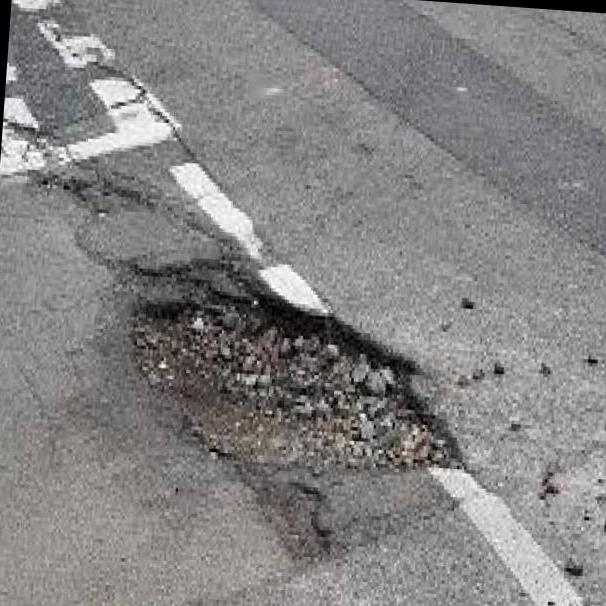pothole: (71, 262, 475, 530)
